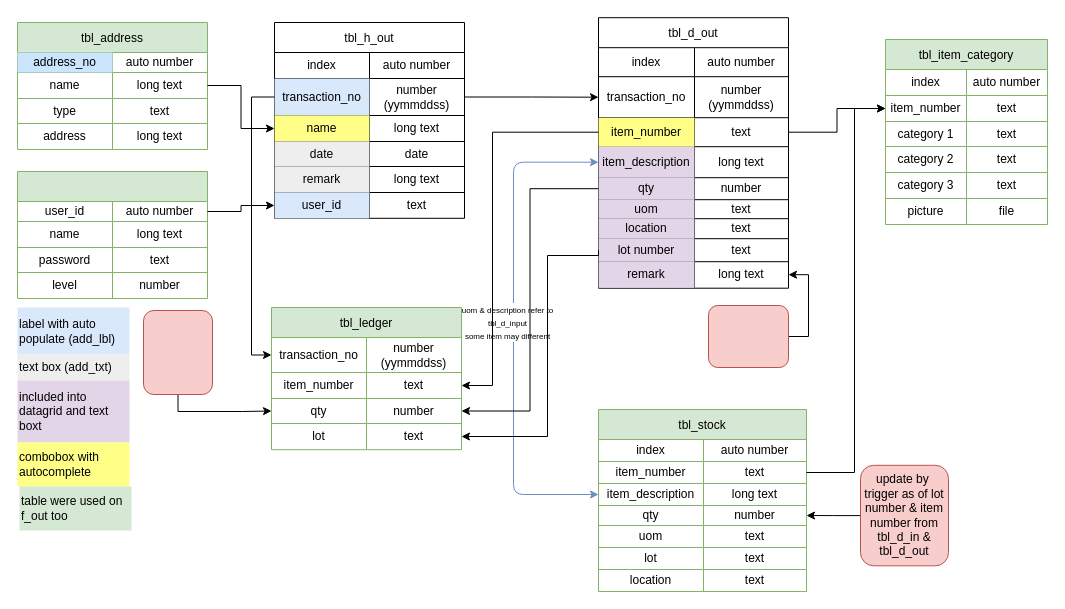
Image size: 1065x609. Some labels were removed from this diagram. The box of each missing label's shape, as (x1, y1, x2, y2) in pixels:
qty minus for outgoing used for outgoing transaction too: (142, 310, 212, 394)
remark for cut from if uom = MTR: (708, 304, 788, 368)
tbl_user: (16, 170, 208, 298)
